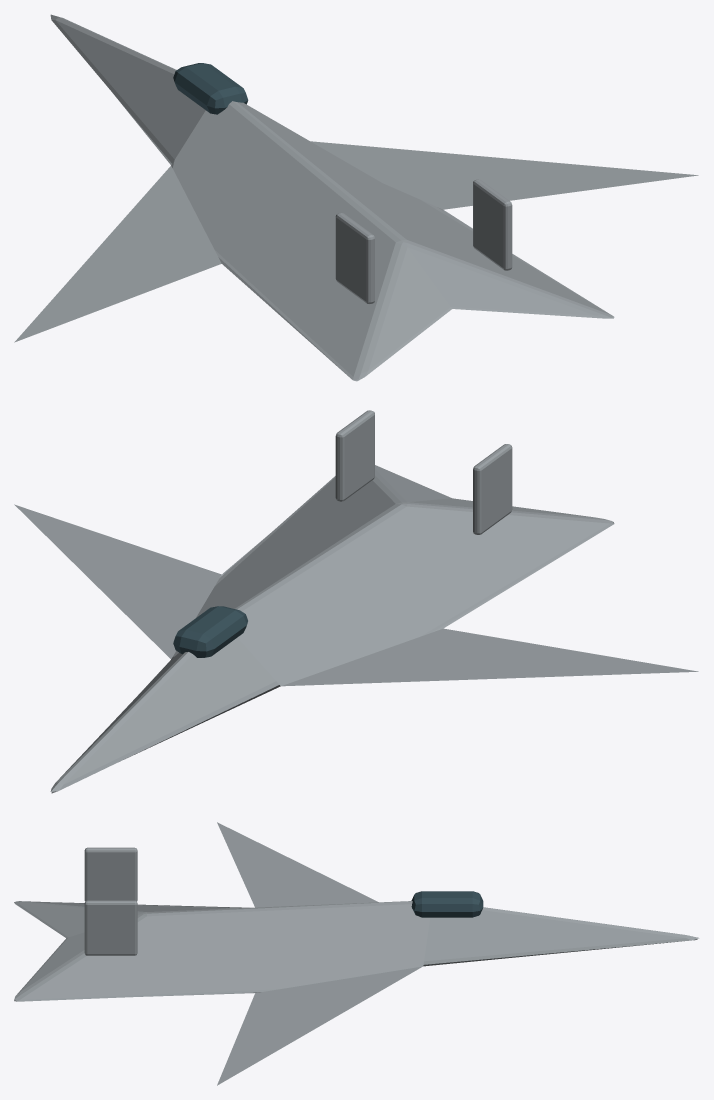
The picture shows the model from 3 angles, top to bottom: view 1: azimuth 30°, elevation 25°; view 2: azimuth 150°, elevation 25°; view 3: azimuth 270°, elevation 25°; orthographic projection. The views are drawn at different scales.
Visible parts, largest first — view 1: airframe, right_tail, left_tail, canopy; view 2: airframe, right_tail, left_tail, canopy; view 3: airframe, right_tail, left_tail, canopy.
Part boxes in pixels (<box>): airframe: <box>14,14,698,381</box>; right_tail: <box>473,179,512,270</box>; left_tail: <box>335,213,374,304</box>; canopy: <box>173,63,248,114</box>; airframe: <box>14,465,698,793</box>; right_tail: <box>335,410,374,501</box>; left_tail: <box>473,444,512,534</box>; canopy: <box>173,606,247,657</box>; airframe: <box>14,822,699,1085</box>; right_tail: <box>84,900,137,955</box>; left_tail: <box>84,847,137,901</box>; canopy: <box>411,891,483,917</box>.
Size of the model in its own units: 7.15 by 1 by 7.85.
